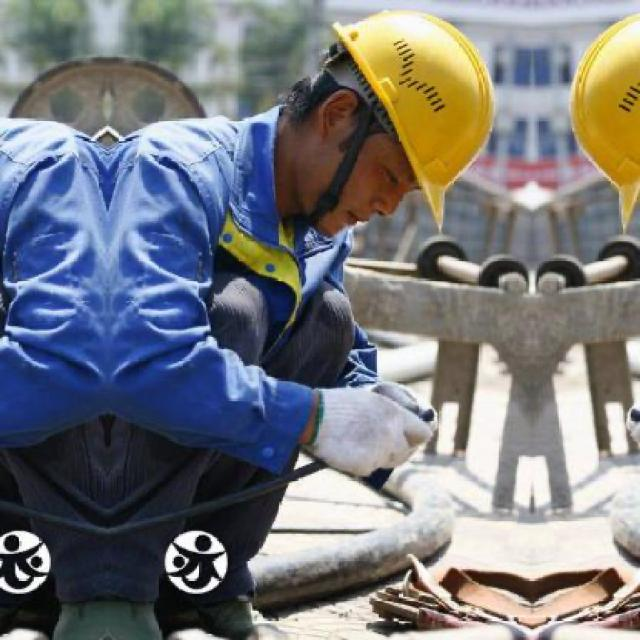helmet: (285, 11, 520, 231), (546, 9, 640, 231), (149, 520, 260, 609), (2, 520, 68, 611)
